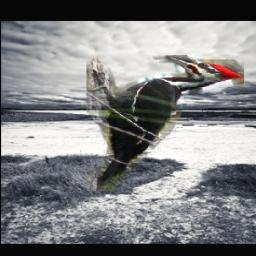Woodpecker: (86, 55, 244, 191)
